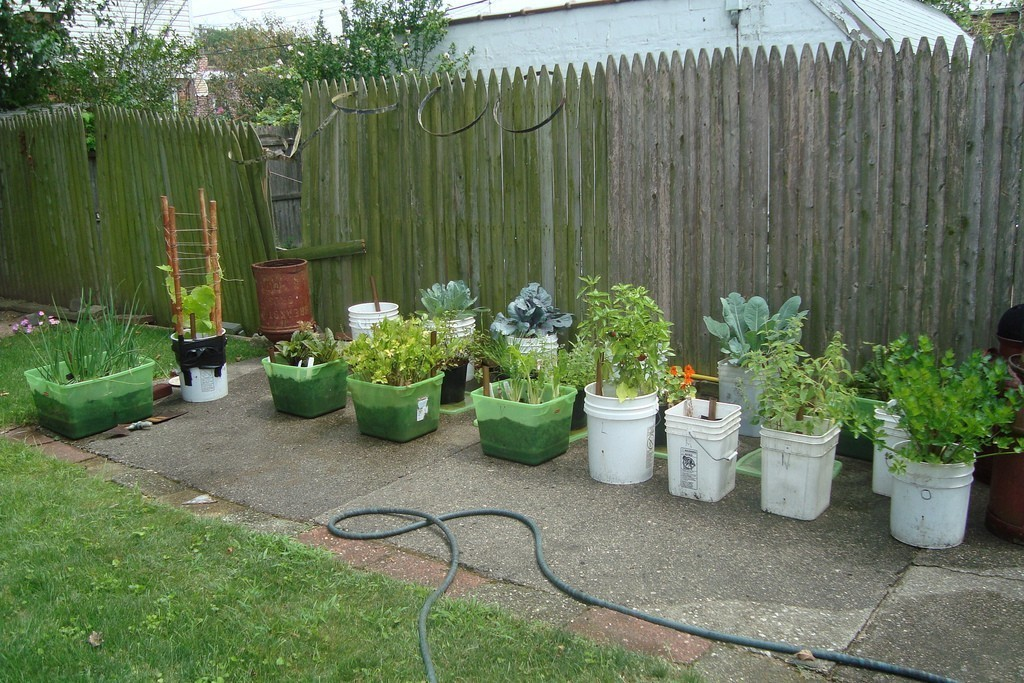container: (755, 403, 837, 522), (885, 434, 971, 547), (663, 389, 744, 507), (246, 247, 313, 343), (342, 299, 403, 347)
vegetation: (887, 344, 1016, 459), (755, 325, 850, 431), (578, 282, 658, 398), (353, 321, 438, 379)
